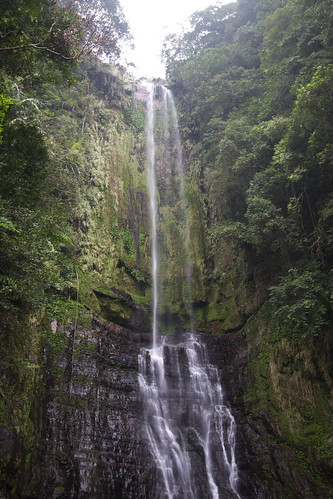wufengciWaterfall: (86, 66, 263, 498)
